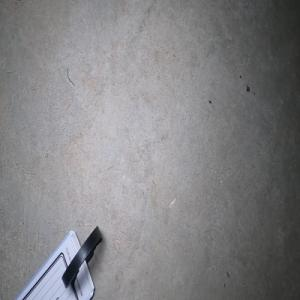LuggageTag: (14, 224, 103, 300)
